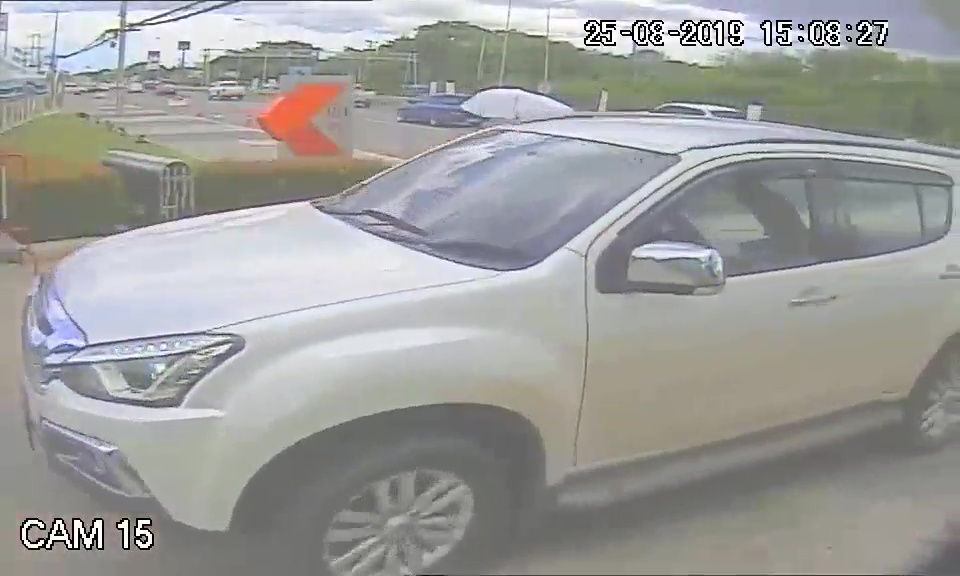pickup: (22, 96, 918, 487)
